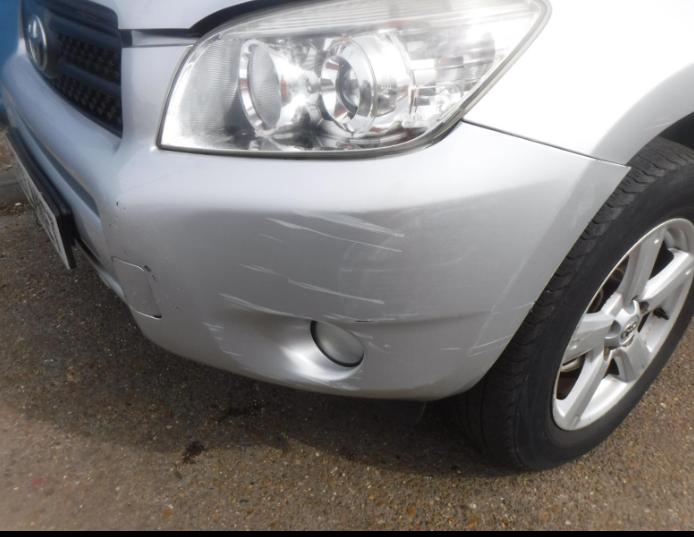Fender: (461, 0, 693, 164)
Front-bumper: (4, 6, 627, 400)
Front-wheel: (445, 136, 692, 468)
Grille: (22, 0, 123, 138)
Headlight: (157, 0, 549, 157)
Hood: (93, 0, 272, 43)
License-plate: (5, 122, 70, 267)
